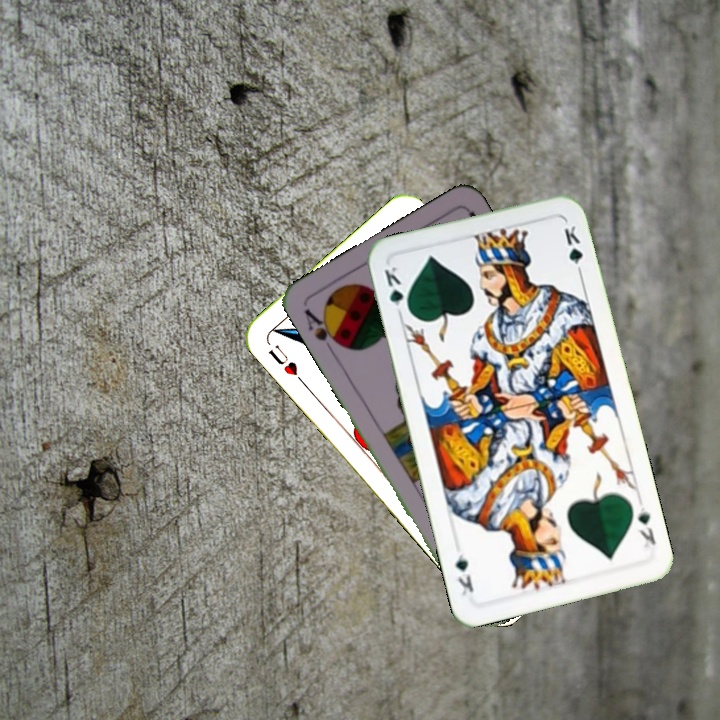GK: (380, 262, 413, 320), (633, 503, 658, 551)
HU: (264, 340, 307, 387)
SA: (300, 305, 346, 357)
